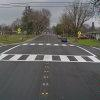Crosswalk: (3, 44, 100, 74)
